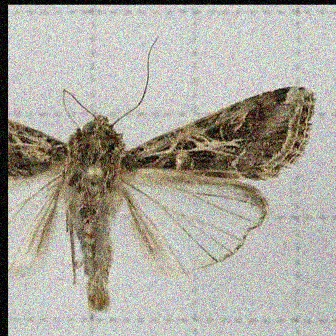Spodoptera litura: (8, 36, 316, 313)
